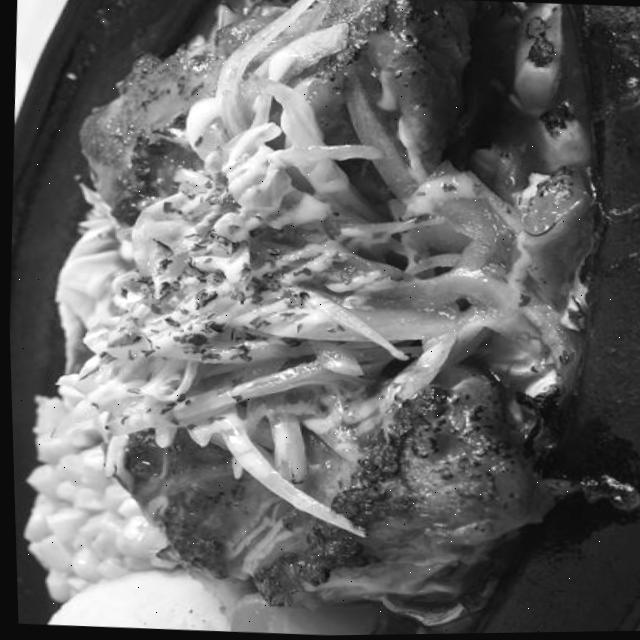牛肉菜式: (36, 0, 603, 633)
